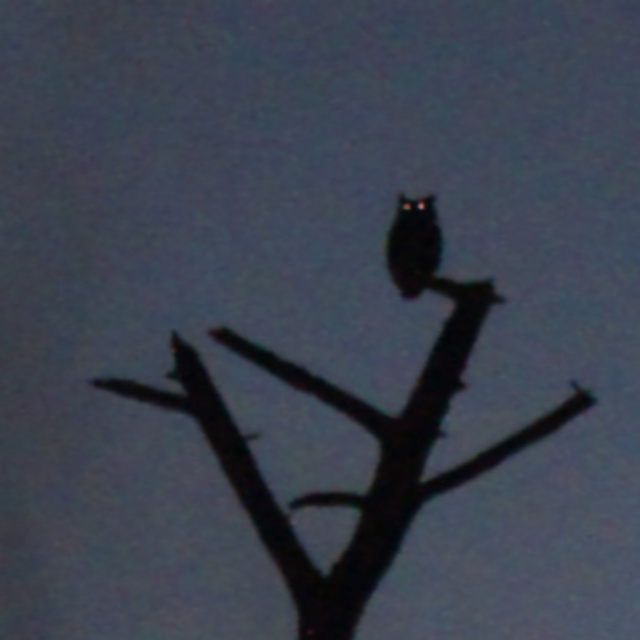Owl: (385, 192, 444, 303)
